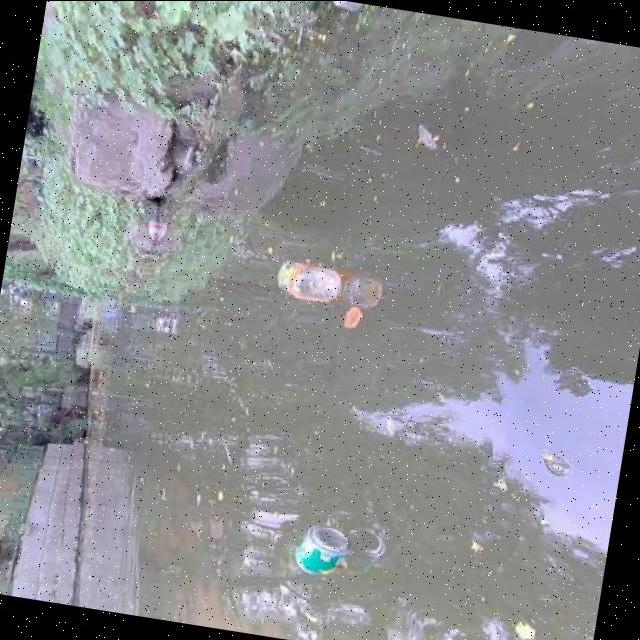Bottle: (271, 252, 345, 312), (287, 518, 353, 582)
